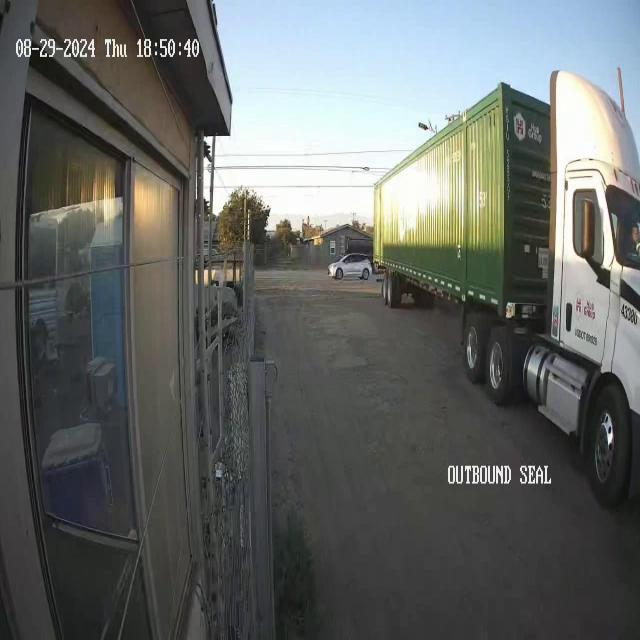TRUCK_IN: (372, 80, 640, 518)
